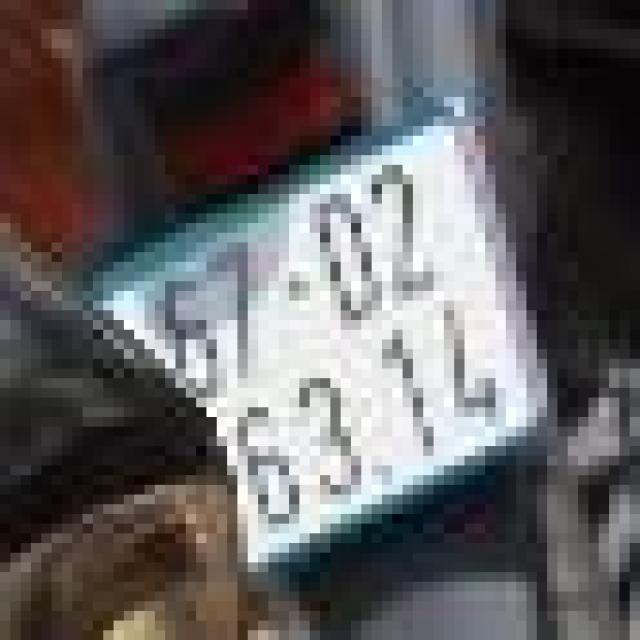1: (358, 321, 462, 473)
2: (358, 150, 453, 308)
3: (274, 359, 390, 512)
4: (414, 289, 518, 444)
6: (202, 381, 322, 548), (135, 260, 241, 412)
7: (194, 233, 293, 393)
D: (278, 178, 402, 333)
